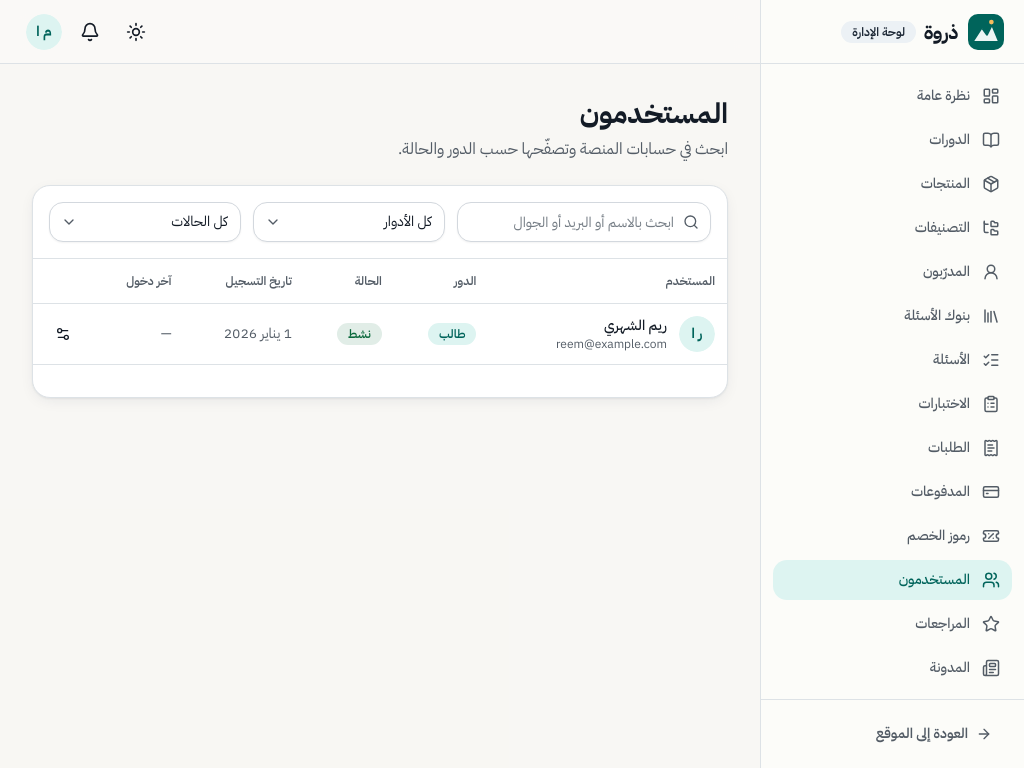
it: admin users page › sends filters to the API and shows an empty state when nothing matches
Check: the text "reem@example.com" is shown, box [556, 336, 667, 352]
Select "مدرّب" in the dropdown named "تصفية حسب الدور" at (349, 222), box [253, 202, 445, 242]
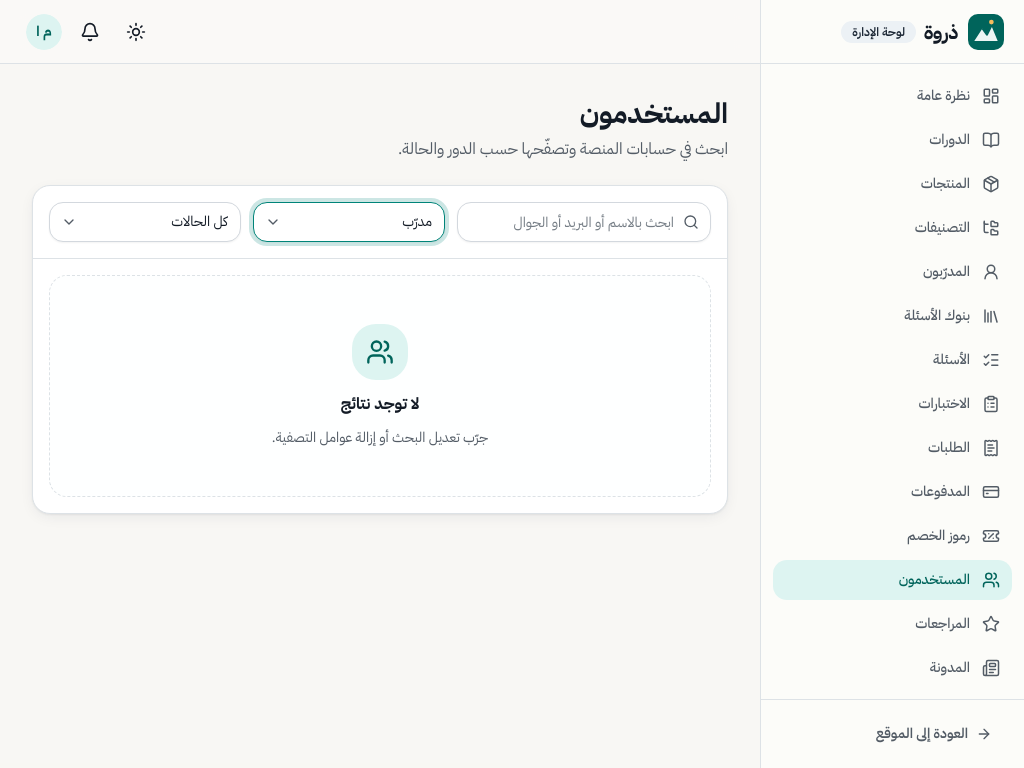
Check: the heading "لا توجد نتائج" is shown, box [341, 392, 419, 416]
